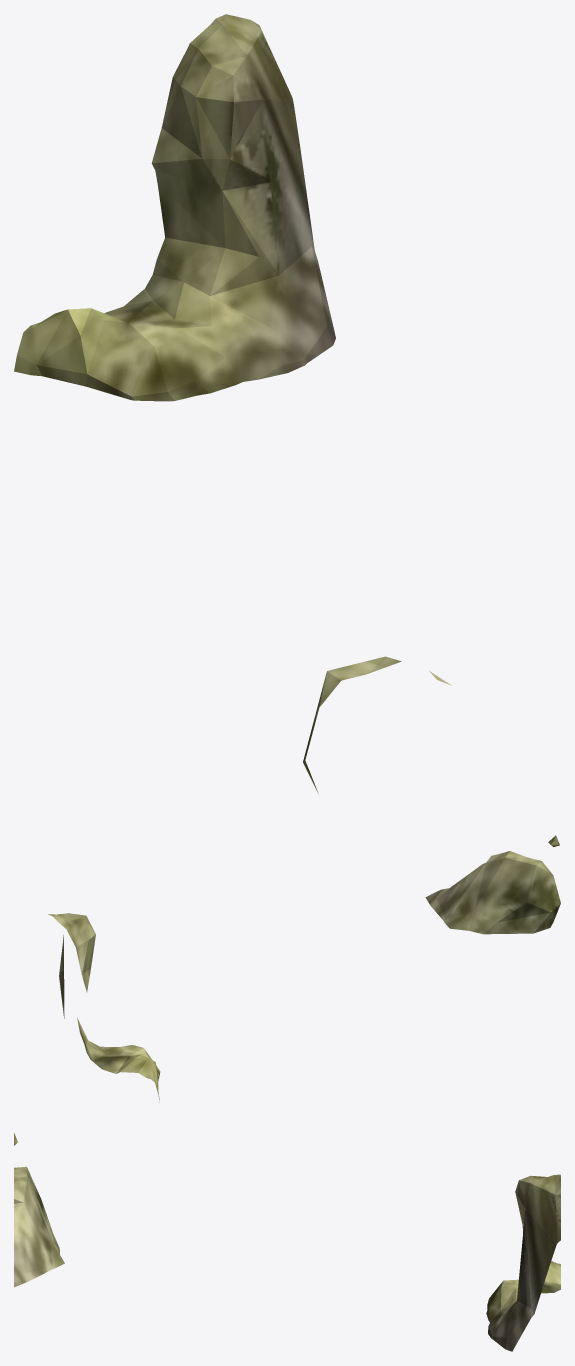
3 views of the same model, one above another, from view 1: azimuth 30°, elevation 25°; view 2: azimuth 150°, elevation 25°; view 3: azimuth 270°, elevation 25° (orthographic). The views are drawn at different scales.
Bounding box in the file's own units: 1.65 × 0.9492 × 2.95.
1 material, 1 textured.
